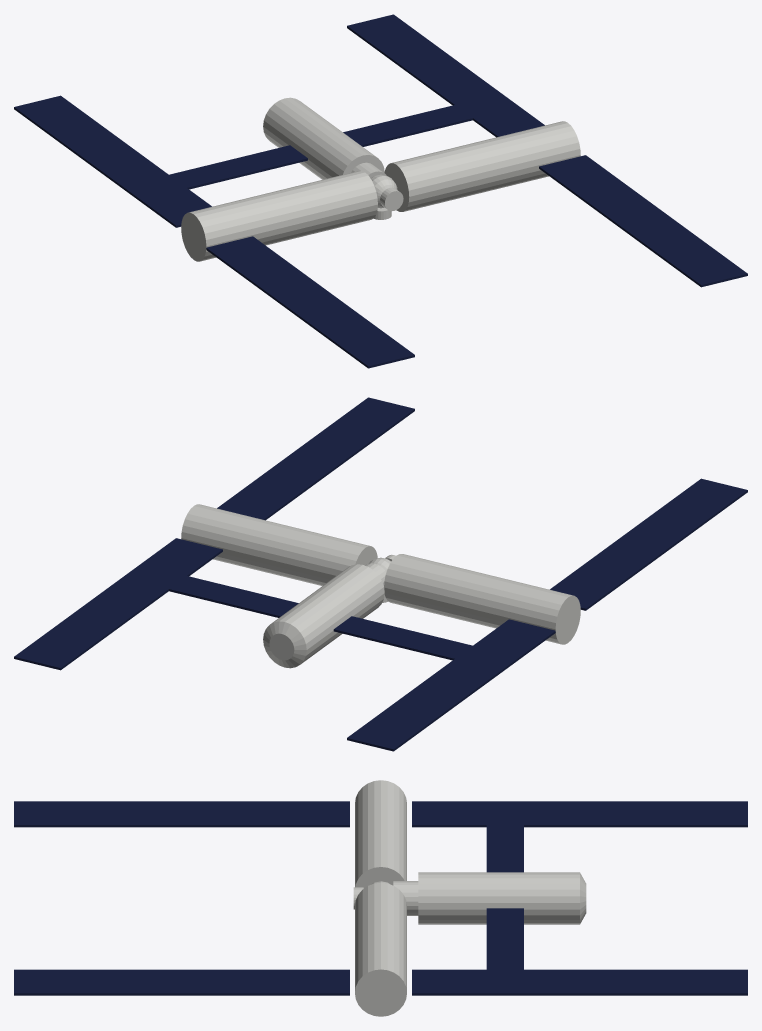
Rendered from tiangong.glb.
The picture shows the model from 3 angles, top to bottom: view 1: azimuth 30°, elevation 25°; view 2: azimuth 150°, elevation 25°; view 3: azimuth 270°, elevation 25°; orthographic projection. The views are drawn at different scales.
Bounding box in the file's own units: 36.5 × 4.3 × 59.
